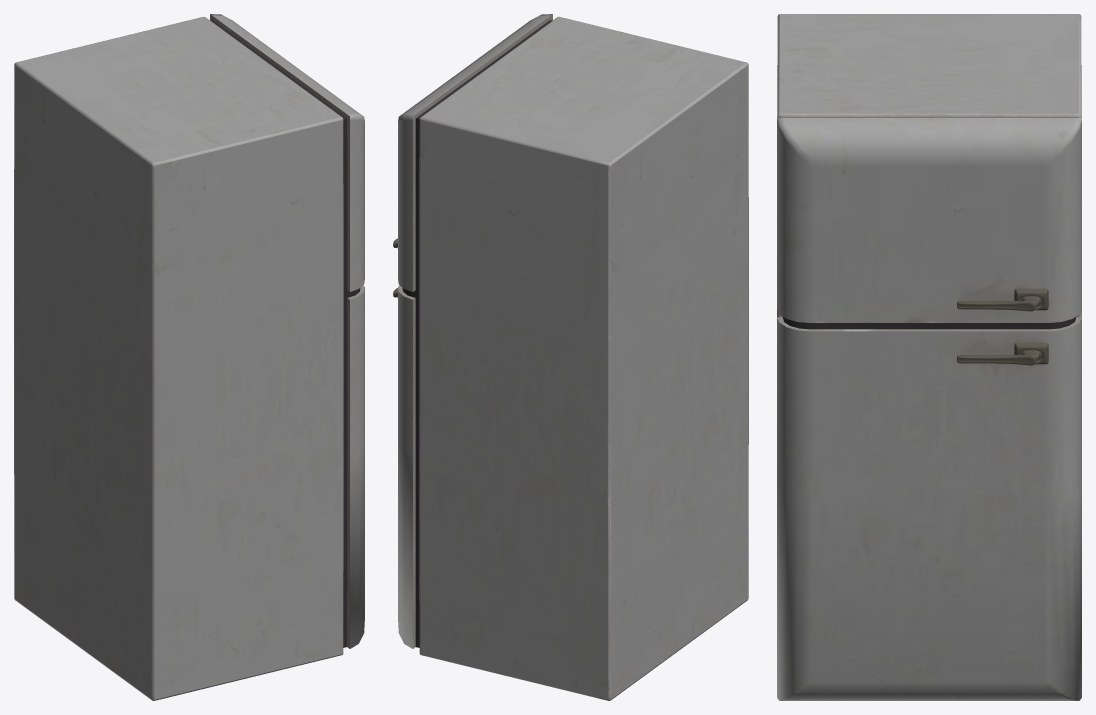
The model's file is fridge.glb.
3 views of the same model, side by side, from view 1: azimuth 30°, elevation 25°; view 2: azimuth 150°, elevation 25°; view 3: azimuth 270°, elevation 25° (orthographic). The views are drawn at different scales.
Visible parts, largest first — view 1: OldFridge.fbx_Shell_0, Fridge_BottomDoor, Fridge_TopDoor; view 2: OldFridge.fbx_Shell_0, Fridge_BottomDoor, Fridge_TopDoor; view 3: Fridge_BottomDoor, Fridge_TopDoor, OldFridge.fbx_Shell_0.
Boxes of the visible parts, x1=… form: OldFridge.fbx_Shell_0: x1=14, y1=16, x2=343, y2=700; Fridge_BottomDoor: x1=343, y1=285, x2=364, y2=648; Fridge_TopDoor: x1=210, y1=14, x2=364, y2=294; OldFridge.fbx_Shell_0: x1=419, y1=16, x2=748, y2=700; Fridge_BottomDoor: x1=393, y1=285, x2=419, y2=648; Fridge_TopDoor: x1=393, y1=14, x2=552, y2=294; Fridge_BottomDoor: x1=777, y1=317, x2=1081, y2=700; Fridge_TopDoor: x1=777, y1=117, x2=1081, y2=325; OldFridge.fbx_Shell_0: x1=777, y1=14, x2=1081, y2=317.
Size of the model in its own units: 5.5 by 11.88 by 5.6.
4 materials, 4 textured.
